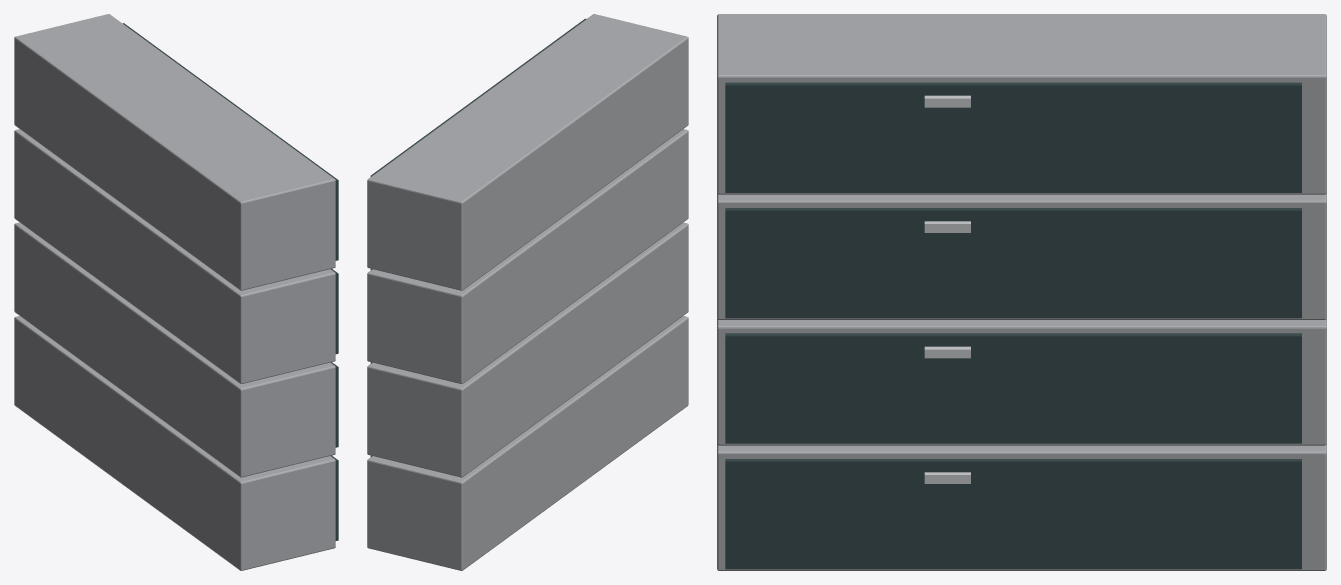
Rendered from lockers.glb.
3 views of the same model, side by side, from view 1: azimuth 30°, elevation 25°; view 2: azimuth 150°, elevation 25°; view 3: azimuth 270°, elevation 25° (orthographic). The views are drawn at different scales.
Parts seen in each view (by area): view 1: locker_3, locker_1, locker_2, locker_0, locker_door_3; view 2: locker_3, locker_1, locker_2, locker_0, locker_door_3; view 3: locker_door_0, locker_door_1, locker_door_2, locker_door_3, locker_3, locker_1, locker_0, locker_2.
Boxes of the visible parts, x1,y1,x2,y2 form: locker_3: (14, 14, 335, 290); locker_1: (14, 222, 335, 477); locker_2: (14, 129, 335, 383); locker_0: (14, 316, 335, 570); locker_door_3: (123, 23, 338, 260); locker_3: (367, 14, 688, 290); locker_1: (367, 222, 688, 477); locker_2: (367, 129, 688, 383); locker_0: (367, 316, 688, 570); locker_door_3: (370, 18, 585, 176); locker_door_0: (725, 459, 1301, 569); locker_door_1: (725, 333, 1301, 443); locker_door_2: (725, 208, 1301, 318); locker_door_3: (725, 82, 1301, 192); locker_3: (717, 14, 1326, 194); locker_1: (717, 318, 1326, 445); locker_0: (717, 444, 1326, 570); locker_2: (717, 193, 1326, 319).
Bounding box in the file's own units: 0.495 × 1.66 × 1.85.
